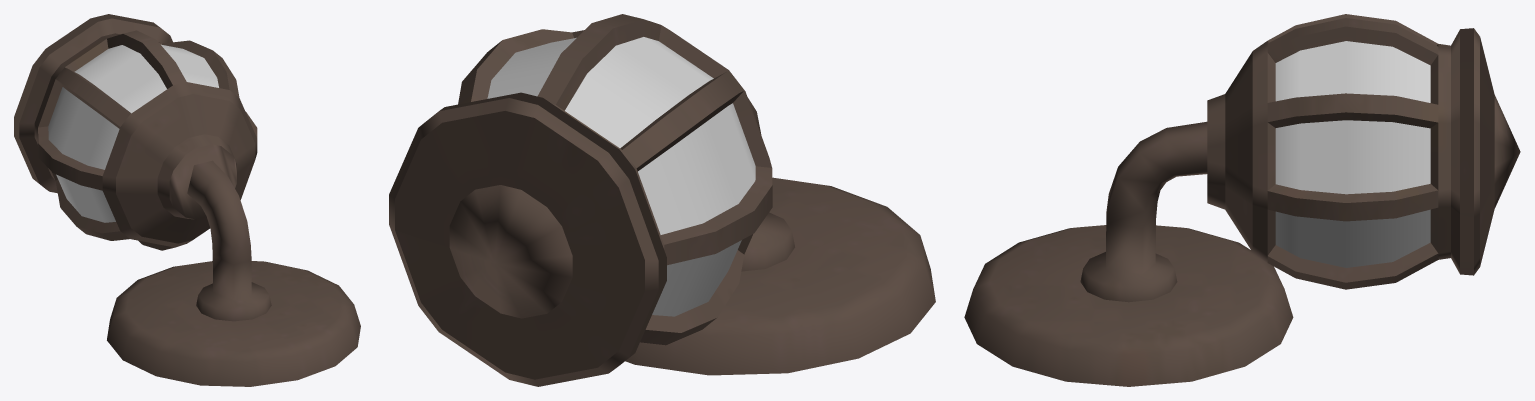
Rendered from LanternC.FBX.
The picture shows the model from 3 angles, left to right: view 1: azimuth 30°, elevation 25°; view 2: azimuth 150°, elevation 25°; view 3: azimuth 270°, elevation 25°; orthographic projection. The views are drawn at different scales.
Parts seen in each view (by area): view 1: pCylinder101_1__CandleStand00, pSphere1_1__Glass00; view 2: pCylinder101_1__CandleStand00, pSphere1_1__Glass00; view 3: pCylinder101_1__CandleStand00, pSphere1_1__Glass00.
Boxes of the visible parts, x1,y1,x2,y2 form: pCylinder101_1__CandleStand00: [14, 14, 360, 386]; pSphere1_1__Glass00: [48, 44, 218, 222]; pCylinder101_1__CandleStand00: [389, 14, 935, 386]; pSphere1_1__Glass00: [487, 37, 755, 316]; pCylinder101_1__CandleStand00: [964, 14, 1520, 386]; pSphere1_1__Glass00: [1275, 41, 1430, 267].
Size of the model in its own units: 63 by 62.38 by 106.
